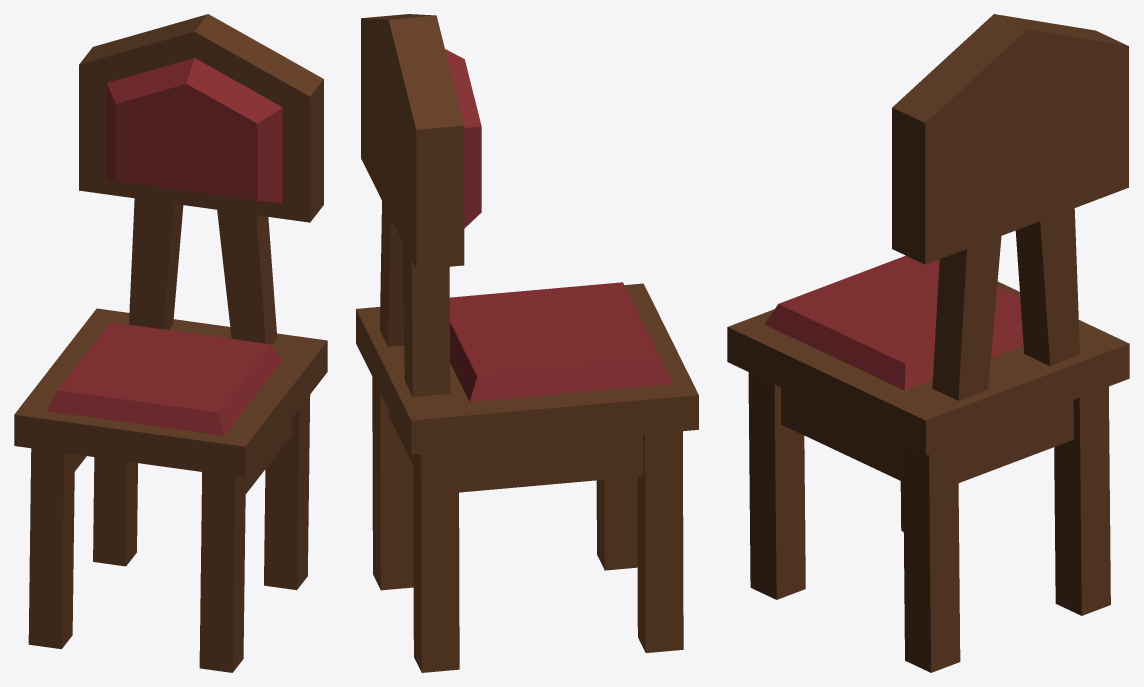
File: krzeslo.fbx
3 renders of one model, left to right at view 1: azimuth 30°, elevation 25°; view 2: azimuth 150°, elevation 25°; view 3: azimuth 270°, elevation 25°, orthographic. The views are drawn at different scales.
Parts seen in each view (by area): view 1: Cube.006; view 2: Cube.006; view 3: Cube.006.
Boxes of the visible parts, x1,y1,x2,y2 form: Cube.006: (14,14,327,672); Cube.006: (356,14,698,672); Cube.006: (727,14,1129,672).
Bounding box in the file's own units: 479 × 801 × 477.
